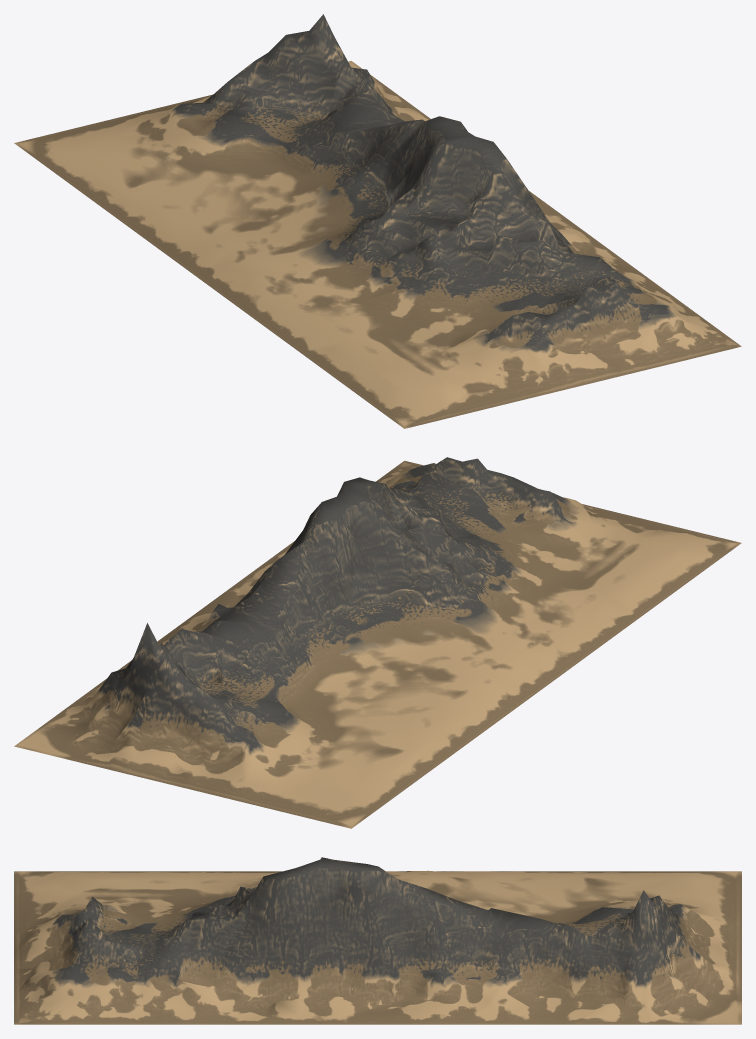
Rendered from Mountain.fbx.
The picture shows the model from 3 angles, top to bottom: view 1: azimuth 30°, elevation 25°; view 2: azimuth 150°, elevation 25°; view 3: azimuth 270°, elevation 25°; orthographic projection. The views are drawn at different scales.
Parts seen in each view (by area): view 1: Mountain; view 2: Mountain; view 3: Mountain.
Boxes of the visible parts, x1=… form: Mountain: x1=14, y1=14, x2=741, y2=428; Mountain: x1=14, y1=457, x2=741, y2=828; Mountain: x1=14, y1=857, x2=741, y2=1024.
Size of the model in its own units: 2040 by 682 by 4088.
Materials: 1 (1 with a texture image).
